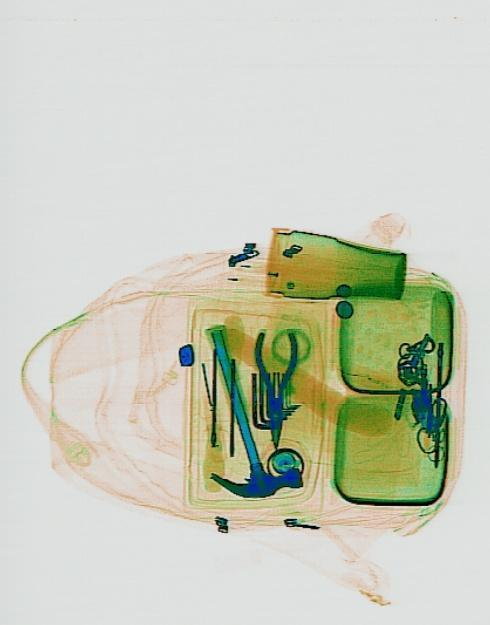Pliers: (251, 330, 297, 450)
